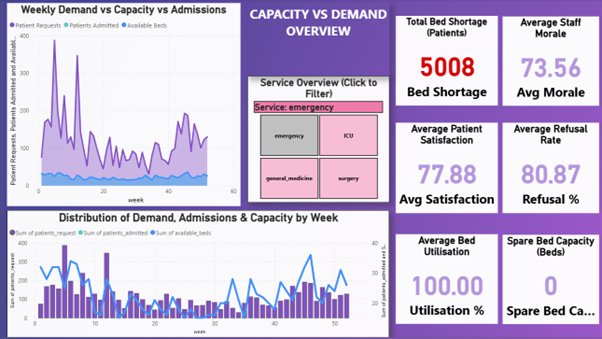

What the dashboard file says about the page in this screenshot:
{"tool":"powerbi","page":{"name":"Capacity vs Demand Overview","canvas":[1280,720],"ordinal":0},"visuals":[{"type":"lineChart","title":"Weekly Demand vs Capacity vs Admissions","fields":{"Category":["ServiceCapacityStaff.week"],"Y":["Sum(ServiceCapacityStaff.patients_request)","Sum(ServiceCapacityStaff.patients_admitted)","Sum(ServiceCapacityStaff.available_beds)"]},"box":[10,7.5,497.6,432.9],"z":0},{"type":"slicer","title":"Service Overview (Click to Filter)","fields":{"Values":["ServiceCapacityStaff.service"]},"box":[522.5,163,302.3,269.9],"z":1000},{"type":"lineClusteredColumnComboChart","title":"Distribution of Demand, Admissions & Capacity by Week","fields":{"Category":["ServiceCapacityStaff.week"],"Y":["Sum(ServiceCapacityStaff.patients_request)"],"Y2":["Sum(ServiceCapacityStaff.patients_admitted)","Sum(ServiceCapacityStaff.available_beds)"]},"box":[10,449.1,814.8,271.2],"z":2000},{"type":"card","title":"Total Bed Shortage (Patients)","fields":{"Values":["ServiceCapacityStaff.Bed Shortage"]},"box":[838.4,35,217.7,191.6],"z":3000},{"type":"card","title":"Average Bed Utilisation","fields":{"Values":["ServiceCapacityStaff.Utilisation %"]},"box":[838.4,500.3,217.7,191.6],"z":4000},{"type":"card","title":"Average Refusal Rate","fields":{"Values":["ServiceCapacityStaff.Refusal %"]},"box":[1066.1,262.2,205.3,192.8],"z":5000},{"type":"card","title":"Spare Bed Capacity (Beds)","fields":{"Values":["ServiceCapacityStaff.Spare Capacity"]},"box":[1066.1,501.6,205.3,190.3],"z":6000},{"type":"card","title":"Average Patient Satisfaction","fields":{"Values":["ServiceCapacityStaff.Avg Satisfaction"]},"box":[838.4,262.2,217.7,192.8],"z":7000},{"type":"card","title":"Average Staff Morale","fields":{"Values":["ServiceCapacityStaff.Avg Morale"]},"box":[1066.1,36.3,205.3,190.3],"z":8000},{"type":"textbox","box":[522,7,302,156],"z":9000}]}

Visuals, with their boxes in screenshot pixels (x1, y1, x2, y2), scaled from the page's 1280x720 canvas onto the 602x339 screenshot:
"Weekly Demand vs Capacity vs Admissions" lineChart: 5:4:239:207
"Service Overview (Click to Filter)" slicer: 246:77:388:204
"Distribution of Demand, Admissions & Capacity by Week" lineClusteredColumnComboChart: 5:211:388:338
"Total Bed Shortage (Patients)" card: 394:16:497:107
"Average Bed Utilisation" card: 394:236:497:326
"Average Refusal Rate" card: 501:123:598:214
"Spare Bed Capacity (Beds)" card: 501:236:598:326
"Average Patient Satisfaction" card: 394:123:497:214
"Average Staff Morale" card: 501:17:598:107
textbox: 246:3:388:77
